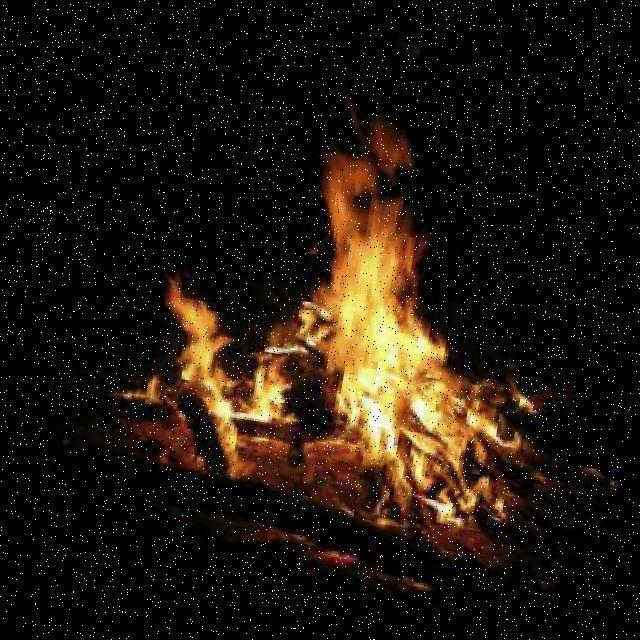Fire: (137, 78, 582, 526)
